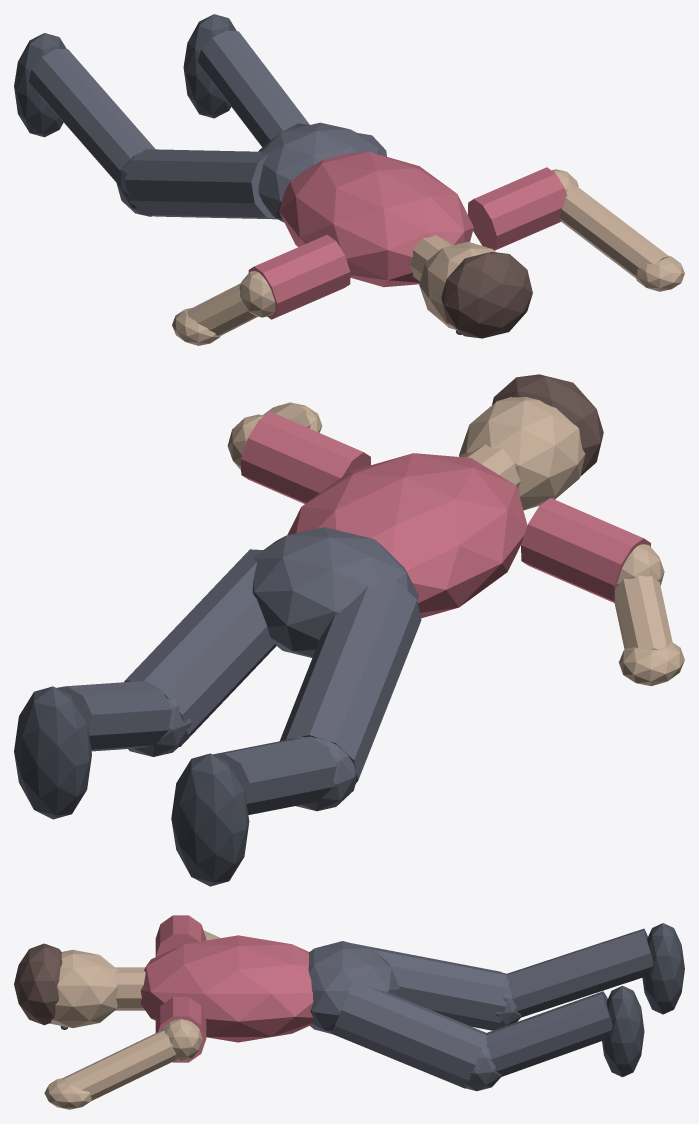
3 views of the same model, one above another, from view 1: azimuth 30°, elevation 25°; view 2: azimuth 150°, elevation 25°; view 3: azimuth 270°, elevation 25° (orthographic). The views are drawn at different scales.
Visible parts, largest first — view 1: world; view 2: world; view 3: world.
Part boxes in pixels (x1,y1,x2,y2): world: (14, 14, 684, 345); world: (14, 374, 684, 886); world: (14, 915, 684, 1109).
Bounding box in the file's own units: 1.25 × 0.38 × 1.99.
